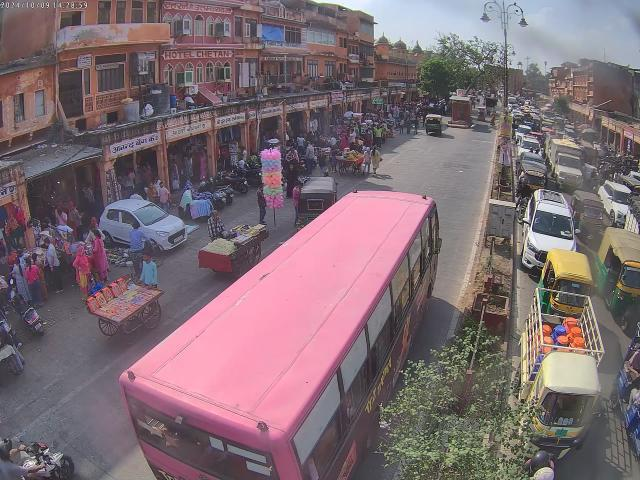auto: (600, 228, 640, 332), (536, 248, 590, 321), (293, 175, 338, 225), (424, 114, 443, 137)
bus: (113, 190, 455, 478)
car: (98, 195, 194, 257), (522, 188, 576, 272), (598, 180, 640, 229)
lorry: (514, 292, 608, 461)
person: (72, 240, 107, 294), (22, 259, 44, 302)
scooty: (4, 278, 46, 336)
vendor: (76, 274, 174, 338), (202, 222, 264, 286), (336, 145, 372, 178)
